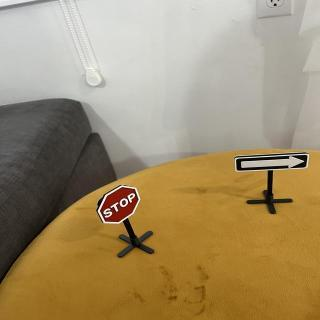sign_oneway_right: (234, 153, 312, 174)
sign_stop: (98, 186, 143, 226)
